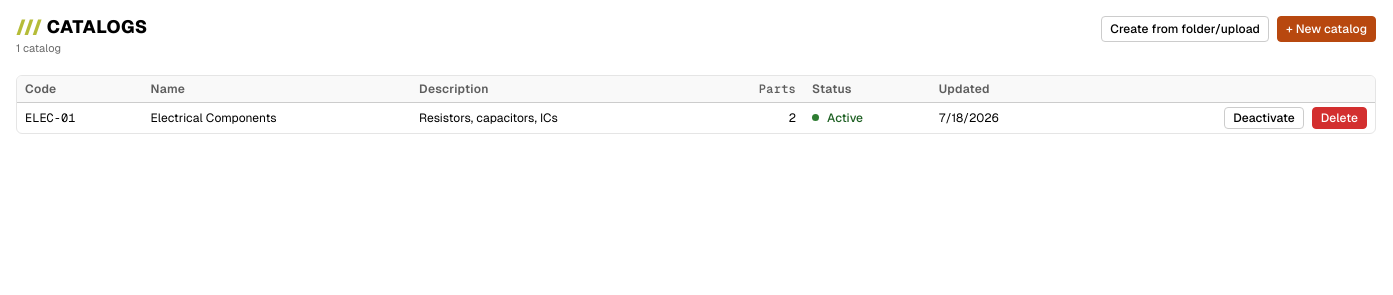
CatalogsScreen › opens a catalog and loads its parts
Click the button "Electrical Components" at {"x": 50, "y": 118}, box [17,102,1375,132]
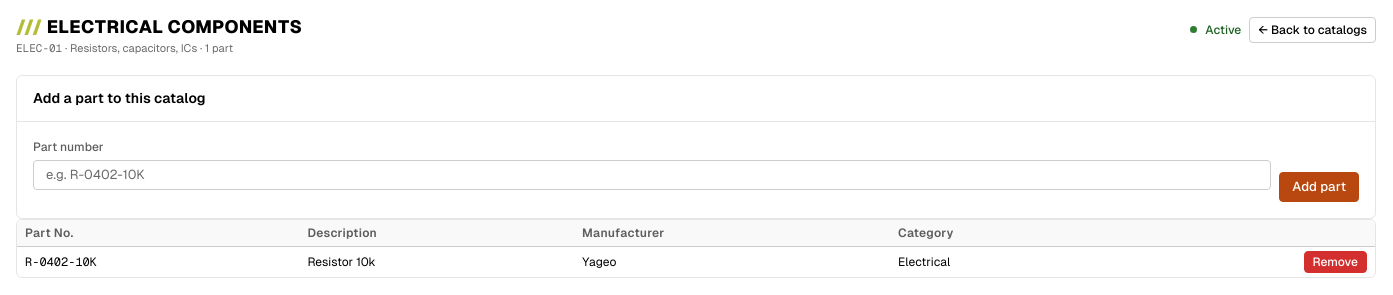
Expected: the text "R-0402-10K" is shown, [25,254,97,268]
Expected: the button "← Back to catalogs" is shown, [1249,16,1376,42]
